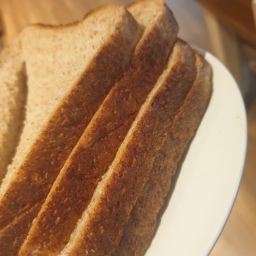Breads: (3, 1, 215, 256)
